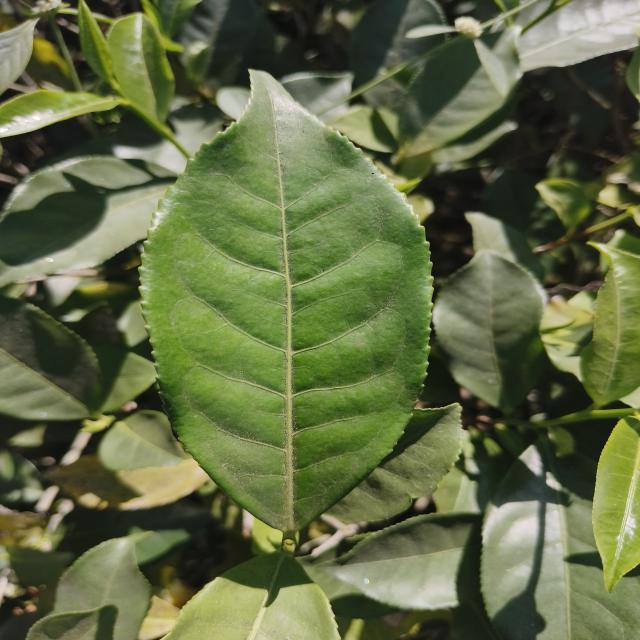Leaf: (140, 72, 432, 533), (480, 440, 640, 640), (0, 156, 173, 286), (433, 250, 544, 413), (326, 403, 466, 526), (398, 28, 521, 164), (318, 512, 478, 610), (166, 552, 339, 640), (29, 537, 151, 640), (0, 297, 100, 420), (581, 243, 640, 405), (44, 455, 210, 511), (518, 0, 640, 71), (592, 416, 640, 592), (350, 0, 446, 88), (108, 13, 174, 121), (179, 0, 259, 84), (433, 432, 509, 513), (0, 90, 121, 138), (98, 410, 187, 470), (465, 212, 542, 279), (93, 346, 156, 413), (280, 71, 353, 124), (78, 0, 116, 88), (331, 105, 398, 152), (536, 178, 591, 233), (364, 60, 424, 110), (7, 547, 73, 588)
